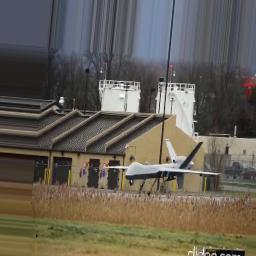reaper: (122, 142, 228, 189)
